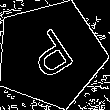P_SE: (20, 23, 81, 85)
